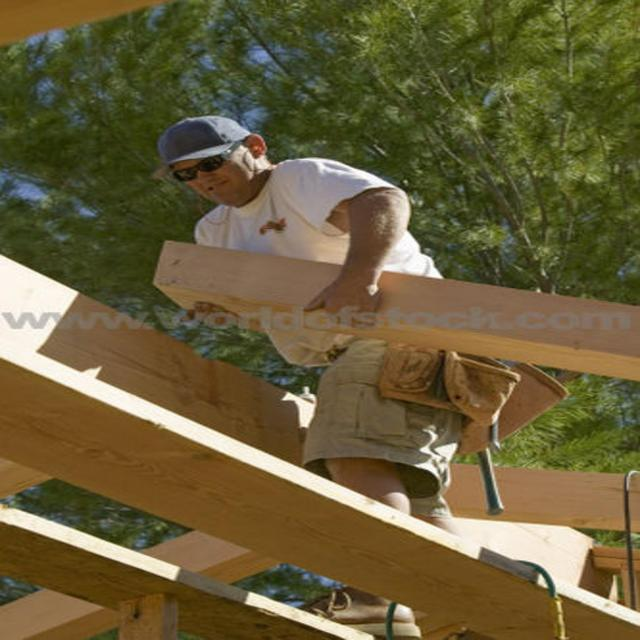nomask: (178, 135, 255, 205)
